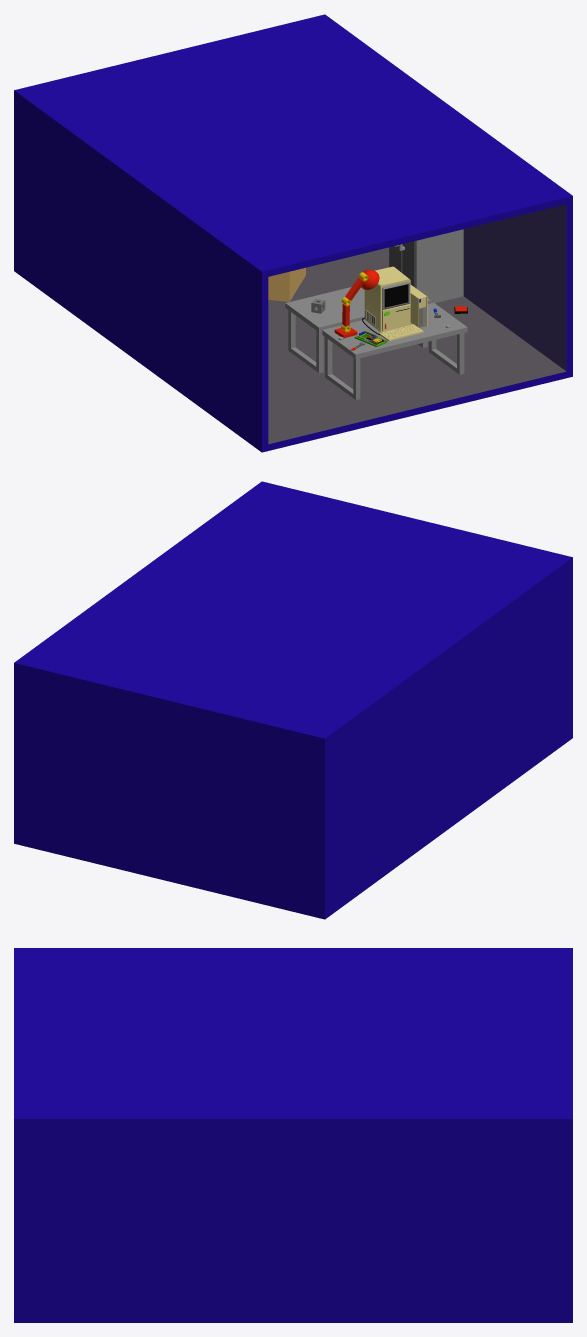
File: 1menu.glb
3 views of the same model, one above another, from view 1: azimuth 30°, elevation 25°; view 2: azimuth 150°, elevation 25°; view 3: azimuth 270°, elevation 25° (orthographic). The views are drawn at different scales.
Parts seen in each view (by area): view 1: Cube, Cube.059, Cube.032, Cube.005, Cube.054, Cube.008, Cube.053, Cube.034, Cube.003, Cube.056, Cube.033; view 2: Cube; view 3: Cube.
Boxes of the visible parts, bbox=[...] form: Cube: bbox=[14, 14, 572, 452]; Cube.059: bbox=[389, 229, 463, 303]; Cube.032: bbox=[322, 303, 467, 358]; Cube.005: bbox=[285, 287, 430, 332]; Cube.054: bbox=[364, 266, 410, 332]; Cube.008: bbox=[268, 267, 305, 301]; Cube.053: bbox=[382, 281, 410, 331]; Cube.034: bbox=[325, 337, 360, 399]; Cube.003: bbox=[288, 310, 323, 373]; Cube.056: bbox=[410, 285, 427, 327]; Cube.033: bbox=[429, 333, 464, 374]; Cube: bbox=[14, 481, 572, 919]; Cube: bbox=[14, 948, 572, 1322].
Bounding box in the file's own units: 12.95 × 7.2 × 17.88.
